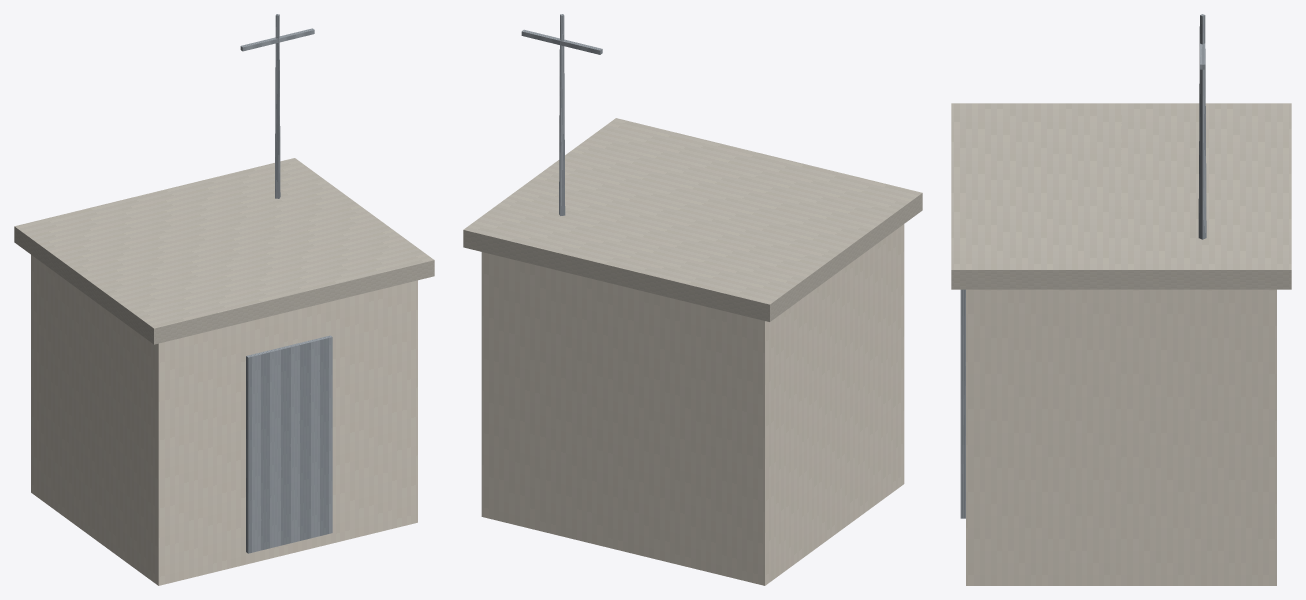
Rendered from rooftop-penthouse-lod0.glb.
3 renders of one model, left to right at view 1: azimuth 30°, elevation 25°; view 2: azimuth 150°, elevation 25°; view 3: azimuth 270°, elevation 25°, orthographic. The views are drawn at different scales.
Parts seen in each view (by area): view 1: rooftop-penthouse-lod0; view 2: rooftop-penthouse-lod0; view 3: rooftop-penthouse-lod0.
Part boxes in pixels (x1=…): rooftop-penthouse-lod0: x1=14, y1=14, x2=434, y2=585; rooftop-penthouse-lod0: x1=463, y1=14, x2=922, y2=585; rooftop-penthouse-lod0: x1=951, y1=14, x2=1291, y2=585.
Size of the model in its own units: 2.92 by 4.45 by 2.52.
Materials: 1 (1 with a texture image).
